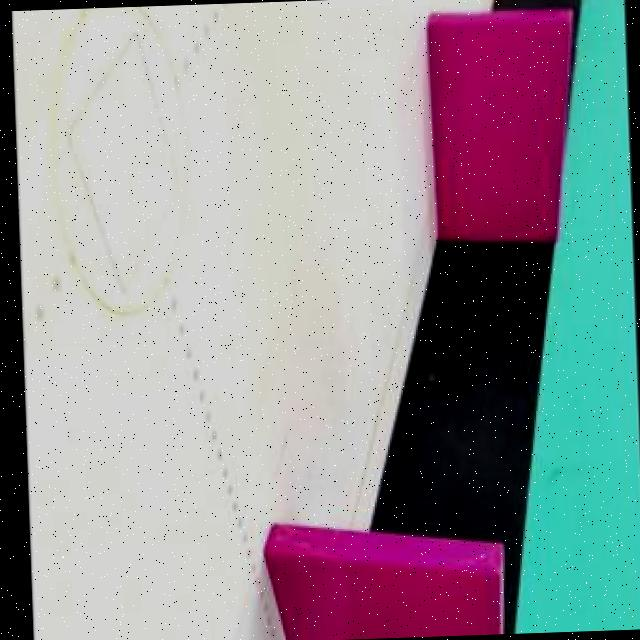xparking: (411, 15, 555, 240), (255, 563, 500, 640)
